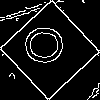O: (25, 25, 73, 65)
